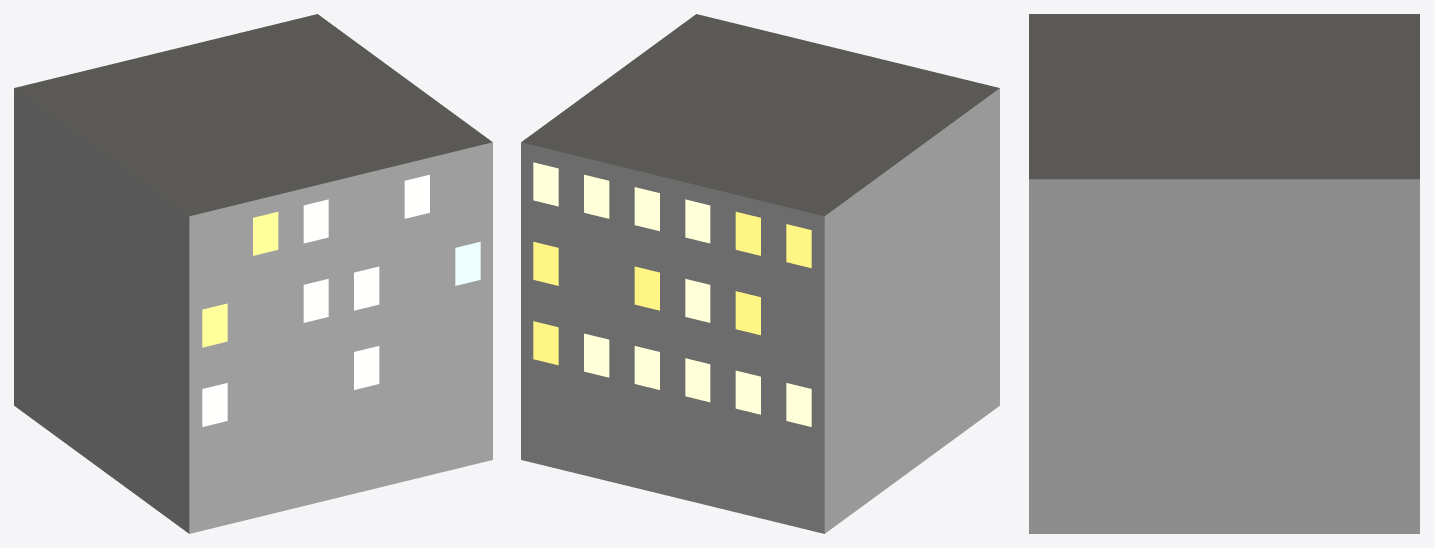
Rendered from city-block-lit-4.glb.
3 renders of one model, left to right at view 1: azimuth 30°, elevation 25°; view 2: azimuth 150°, elevation 25°; view 3: azimuth 270°, elevation 25°, orthographic. The views are drawn at different scales.
Parts seen in each view (by area): view 1: city_block, window warm, window amber, window tv; view 2: city_block, window warm, window amber; view 3: city_block.
Part boxes in pixels (bbox=[...]): city_block: bbox=[14, 14, 492, 533]; window warm: bbox=[202, 174, 429, 426]; window amber: bbox=[202, 212, 278, 347]; window tv: bbox=[455, 241, 480, 285]; city_block: bbox=[521, 14, 999, 533]; window warm: bbox=[533, 162, 811, 426]; window amber: bbox=[533, 212, 811, 365]; city_block: bbox=[1029, 14, 1419, 533].
Bounding box in the file's own units: 1 × 1 × 1.
